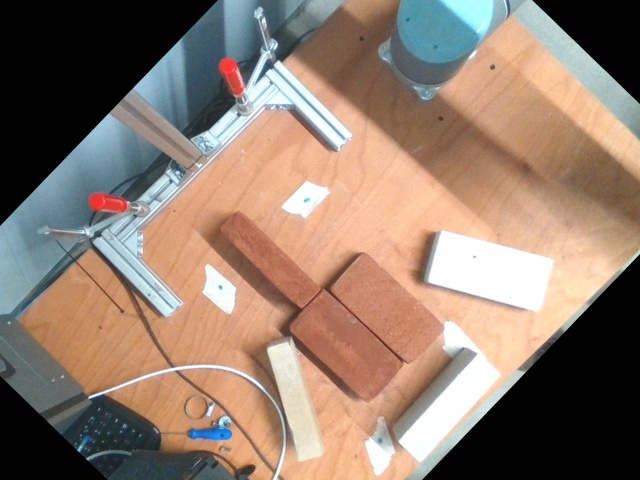brick: (288, 291, 403, 404), (330, 253, 442, 363)
brick-side: (400, 356, 500, 461), (429, 231, 552, 311), (219, 211, 318, 308), (267, 343, 323, 461)
